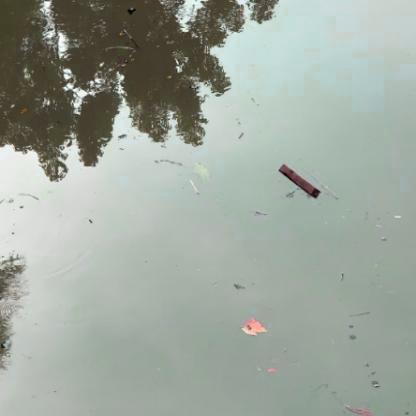Trash: (276, 162, 322, 199)
